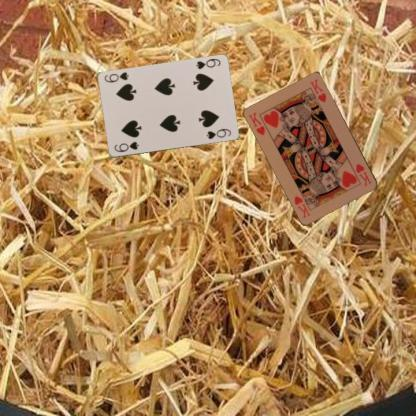6s: (111, 139, 140, 154), (192, 57, 222, 70)
Kh: (353, 160, 373, 188), (246, 109, 266, 137)
